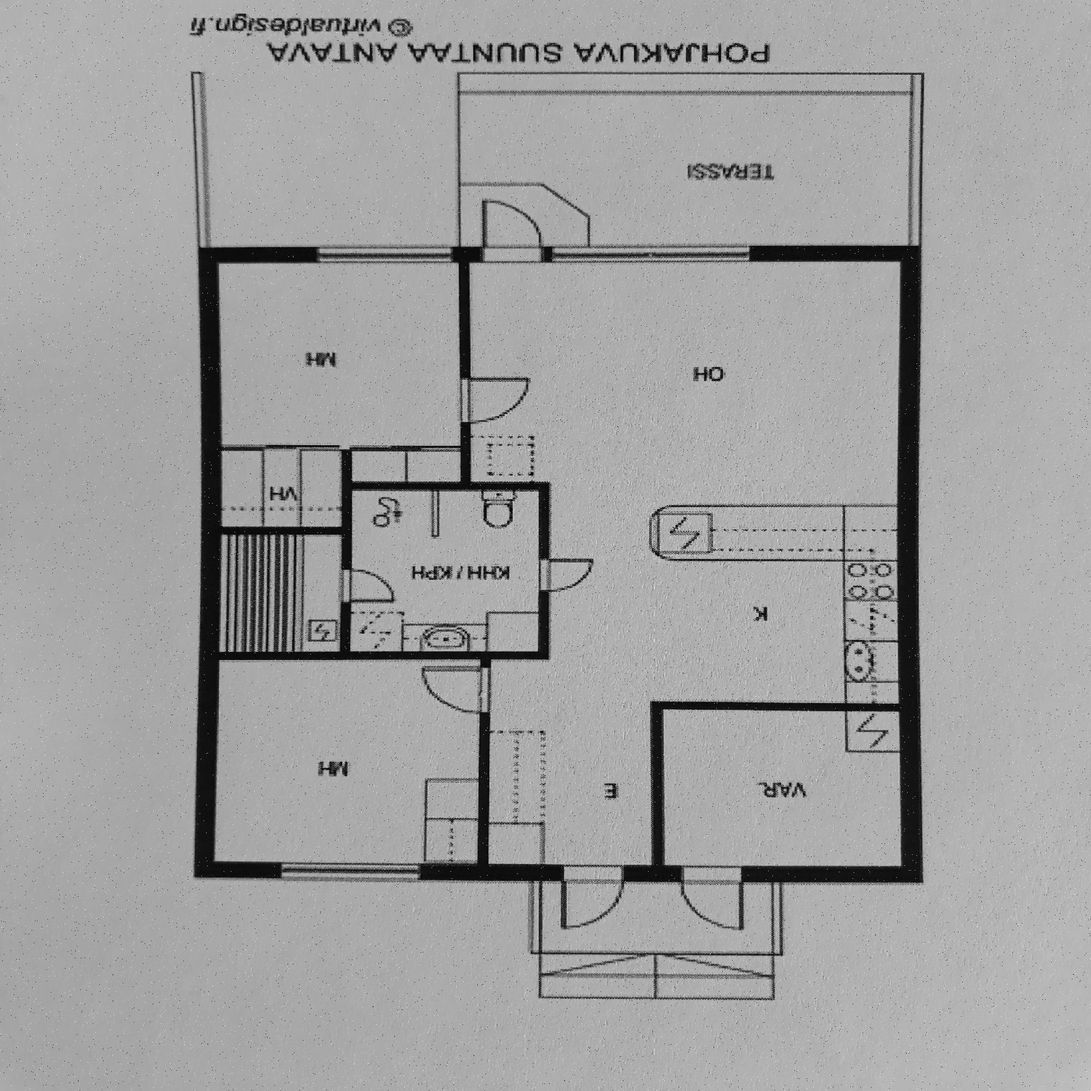wall: (198, 245, 220, 880), (901, 245, 922, 880), (198, 245, 922, 261), (198, 864, 922, 880), (199, 652, 549, 659), (653, 703, 922, 712), (461, 261, 470, 482), (653, 703, 665, 864), (479, 659, 488, 863), (539, 483, 549, 659), (342, 490, 352, 652), (342, 483, 548, 490), (220, 527, 352, 534), (342, 449, 352, 490)
